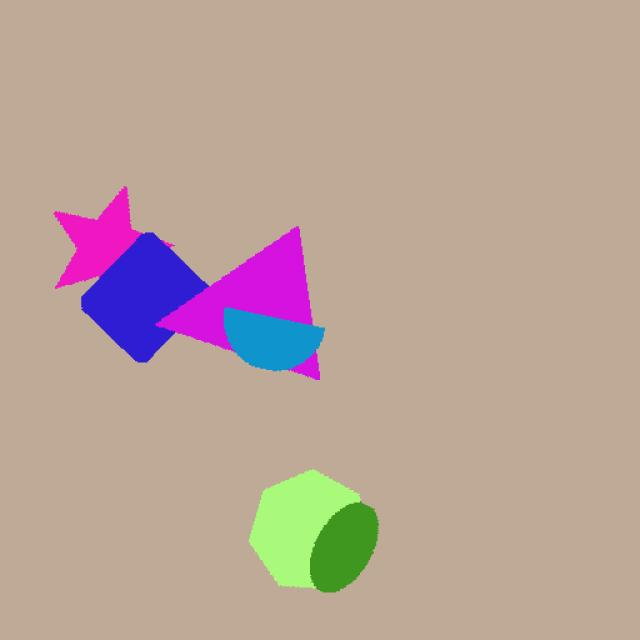Hexagon: (216, 457, 362, 593)
Oval: (303, 497, 394, 603)
Semicircle: (208, 294, 329, 378)
Star: (42, 171, 172, 303)
Triangle: (154, 217, 339, 382)
square: (69, 226, 210, 376)
